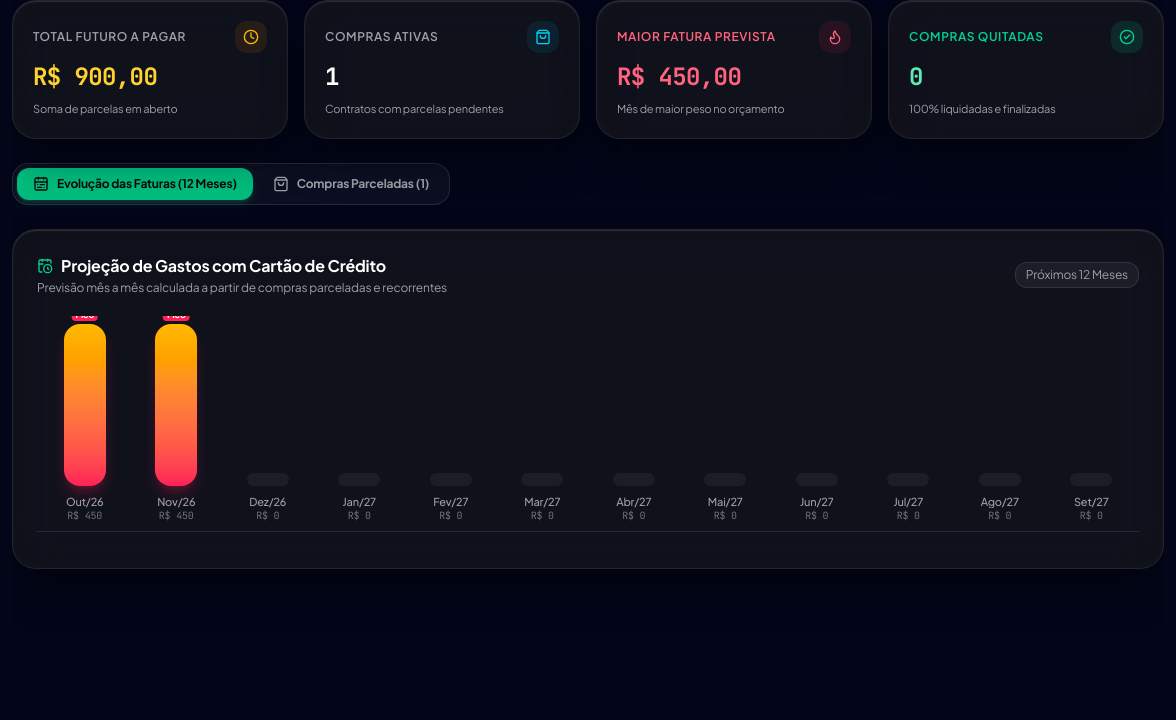
Test case: <CardsAndInvoicesView /> (Tela de Cartões & Faturas Futuras) › deve alternar entre a aba de Evolução de Faturas e a aba de Compras Parceladas
The image size is (1176, 720).
Check: the text "Evolução das Faturas (12 Meses)" is shown, box [57,176,237,192]
Click the button "Compras Parceladas (1)" at (351, 184), box [257,168,445,200]
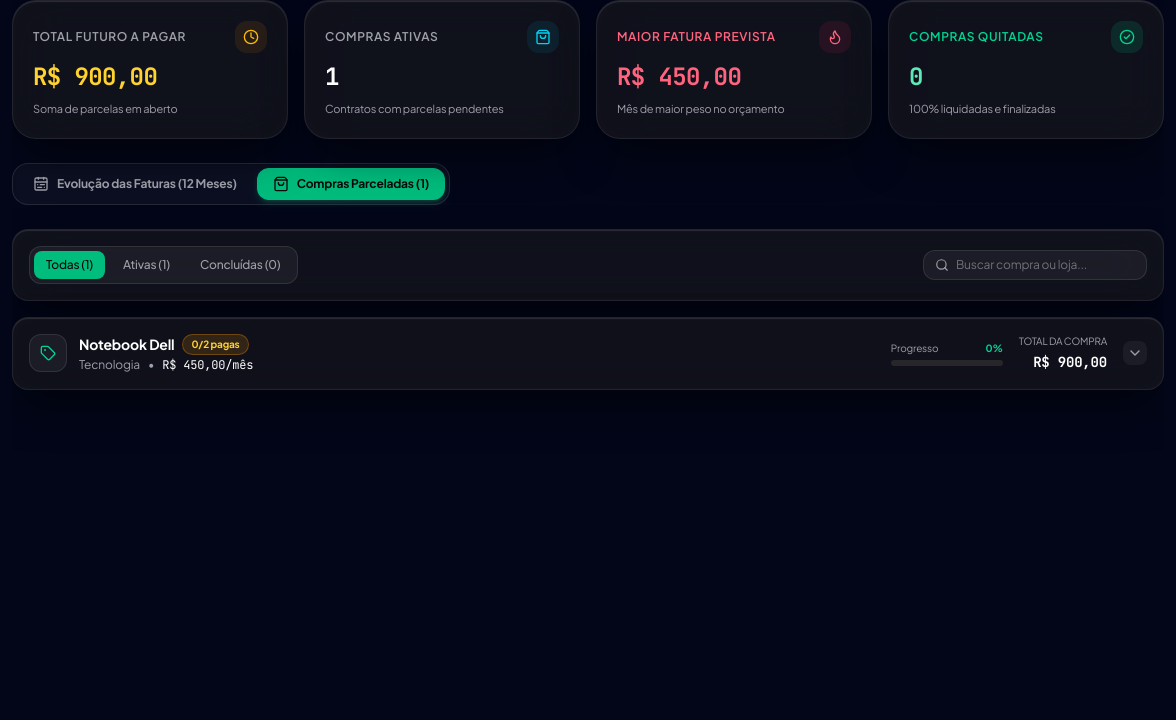
Check: the text "Notebook Dell" is shown, box [79,334,174,354]
Check: the text "0/2 pagas" is shown, box [182,334,249,354]
